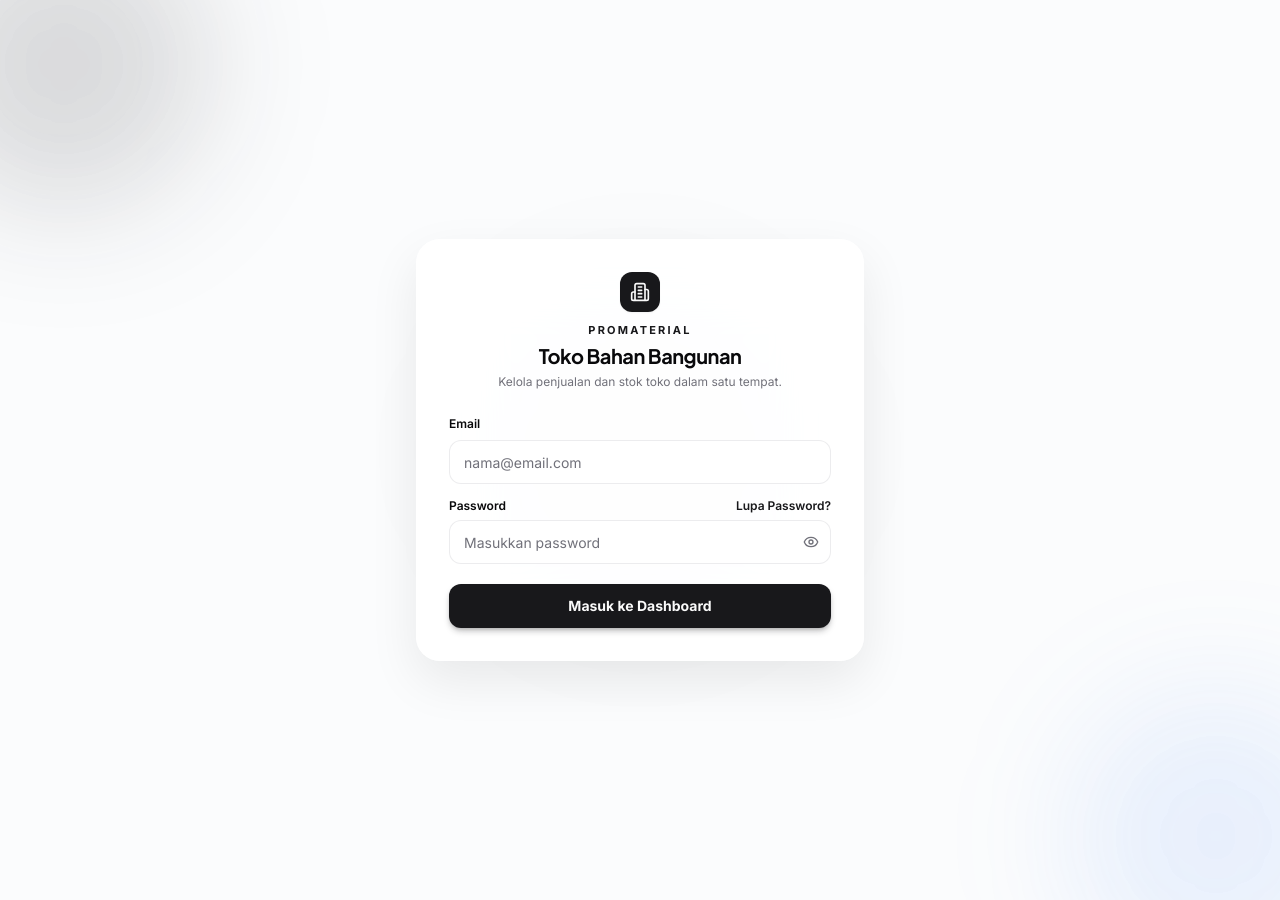
it: Auth Component - Forgot Password Flow › should render an accessible mobile-friendly login form
This screenshot has width=1280, height=900.
Check: the heading "Toko Bahan Bangunan" is shown, box [539, 343, 741, 368]
Step 1. Click the button named "Tampilkan password" → (811, 542), box [791, 520, 831, 564]
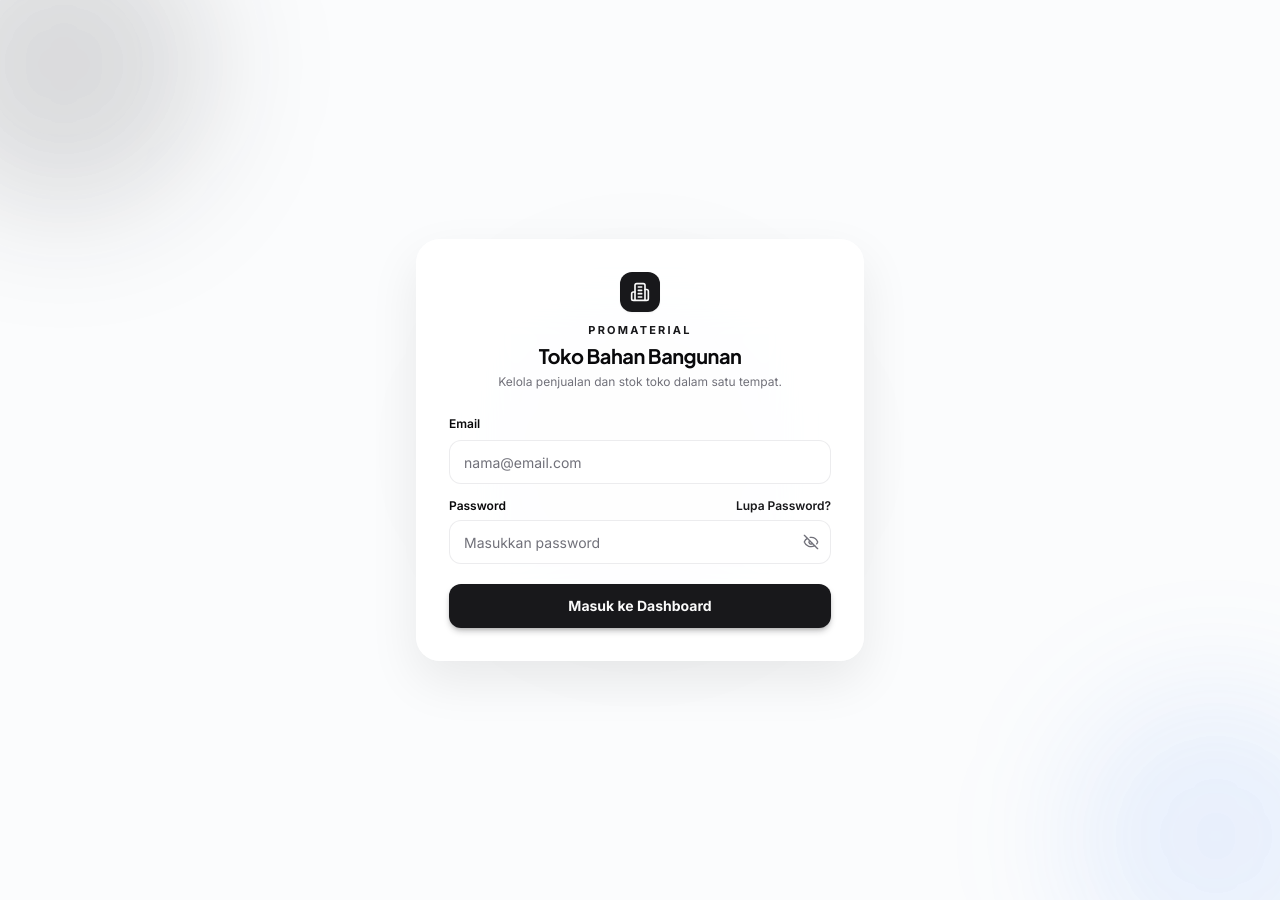
Check: the button named "Sembunyikan password" is shown, box [791, 520, 831, 564]
# Click Lupa Password
Step 2. Click the button "Lupa Password?" → (783, 506), box [736, 498, 831, 514]
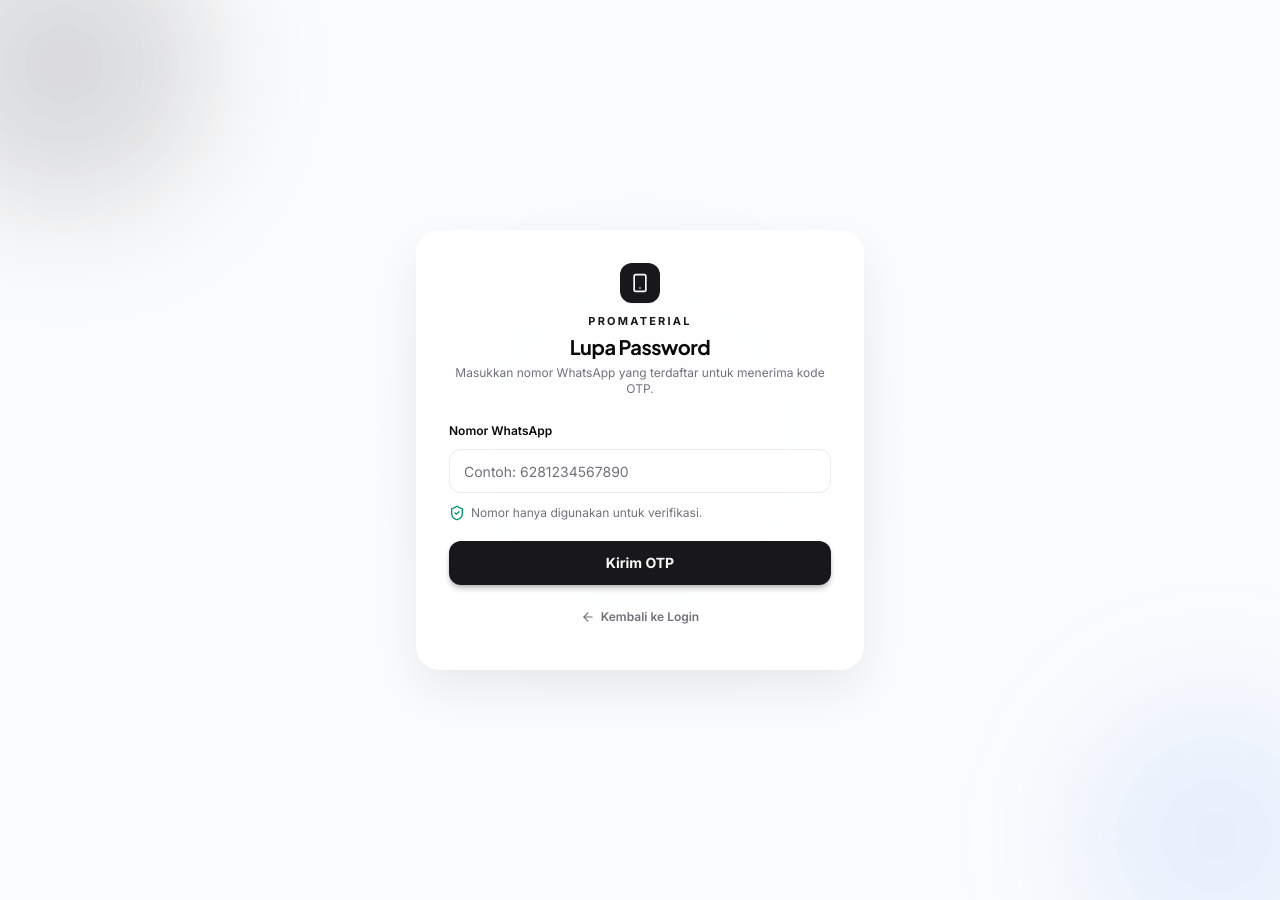
Check: the heading "Lupa Password" is shown, box [570, 334, 710, 359]
Check: the field labelled "Nomor WhatsApp" is shown, box [449, 449, 831, 493]
Check: the button "Kirim OTP" is shown, box [449, 541, 831, 585]
